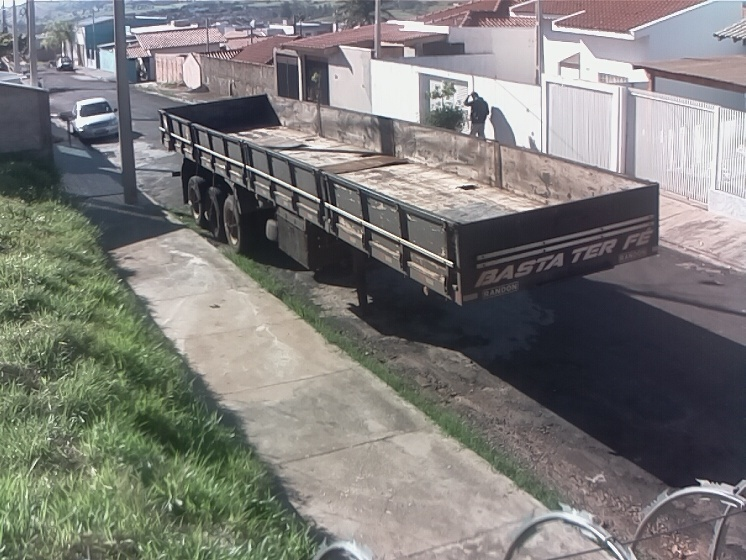person: (464, 90, 492, 143)
